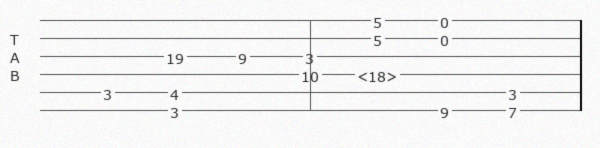0: (440, 31, 453, 45), (440, 13, 453, 27)
10: (301, 67, 323, 81)
19: (166, 49, 188, 63)
3: (103, 85, 116, 99), (170, 103, 183, 117), (305, 49, 318, 63), (508, 85, 521, 99)
4: (170, 85, 183, 99)
5: (373, 31, 386, 45), (373, 13, 386, 27)
7: (508, 103, 521, 117)
9: (238, 49, 251, 63), (440, 103, 453, 117)
harmonic: (357, 67, 401, 81)
